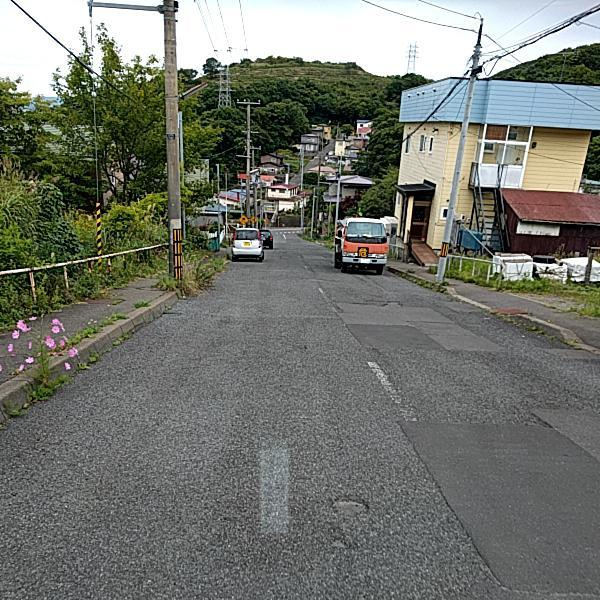D40: (325, 493, 373, 518), (327, 533, 352, 554)
D44: (360, 353, 420, 424)
